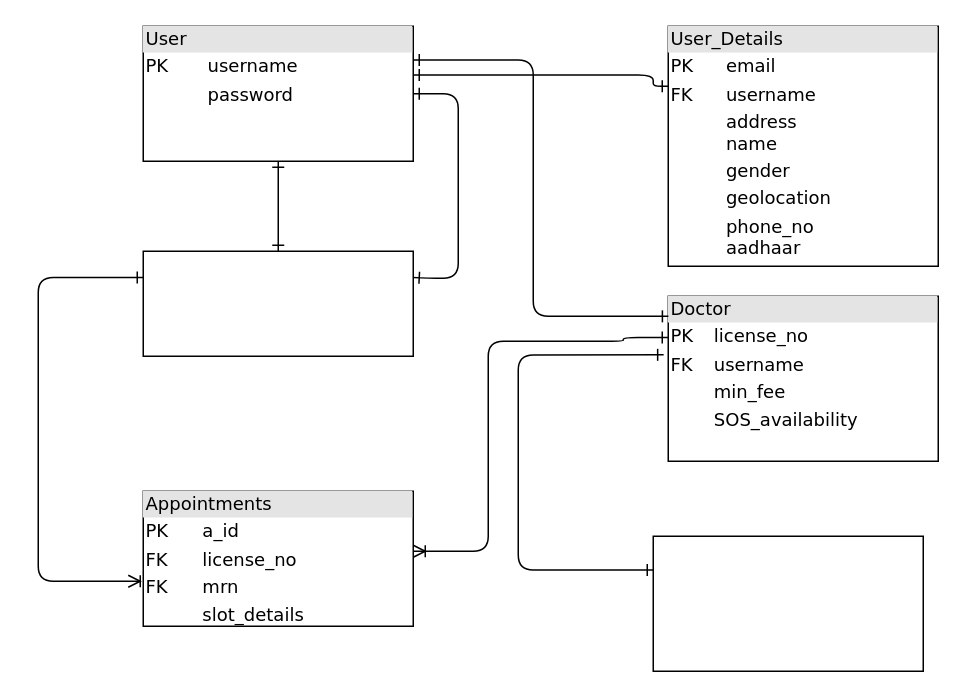
This 965x698 diagram has some shape labels left out. The shapes that lost their labels are listed below. From the top down, each one's centre as x and y in pixels, then its label:
At (x=277, y=303): "Patient PK mrn FK username".
At (x=787, y=603): "Speciality PK Speciality_name FK license_no".
